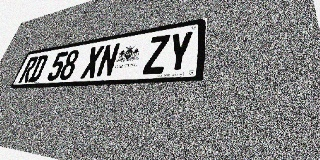5: (46, 51, 69, 81)
8: (58, 49, 81, 80)
D: (27, 54, 49, 82)
N: (95, 42, 121, 78)
R: (18, 56, 39, 83)
X: (80, 45, 105, 79)
Y: (165, 30, 194, 73)
Z: (142, 34, 170, 75)
